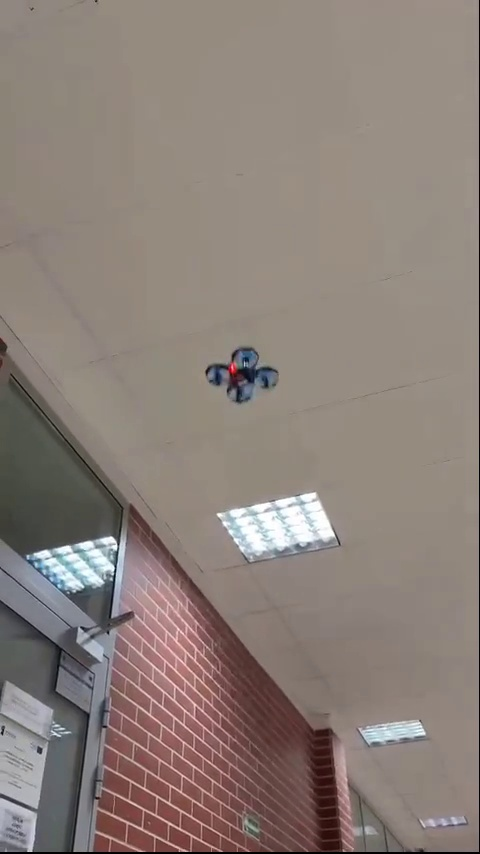drone: (200, 349, 273, 402)
